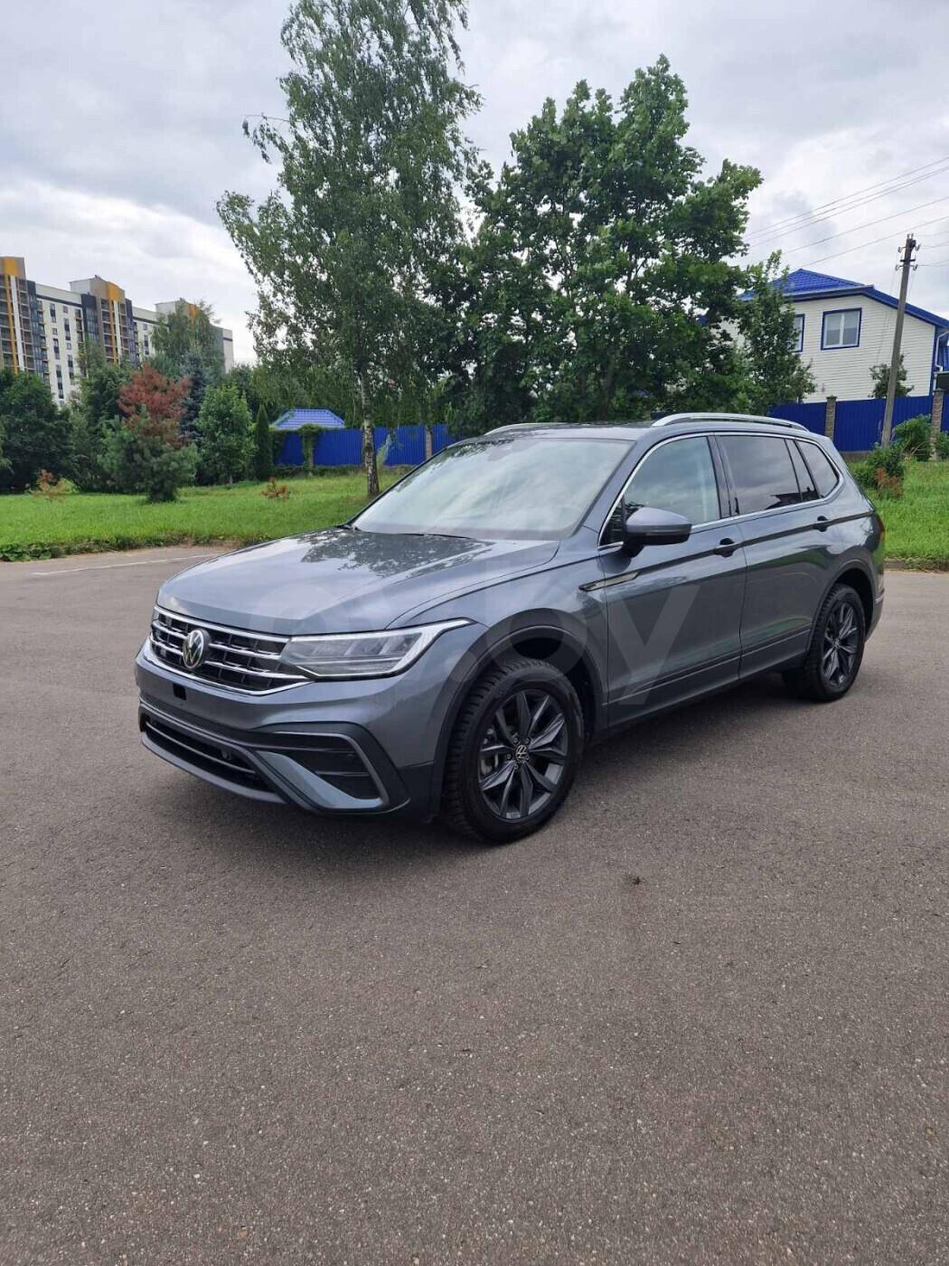Tiguan_2020-2024: (125, 414, 889, 852)
